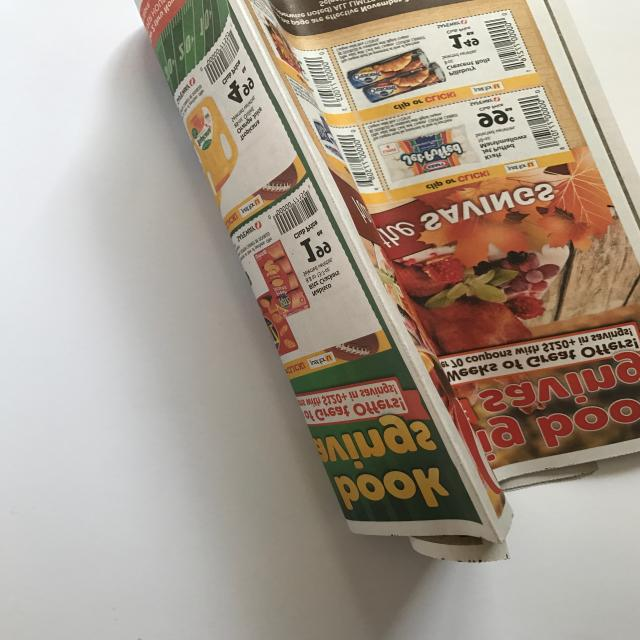paper: (120, 0, 640, 559)
